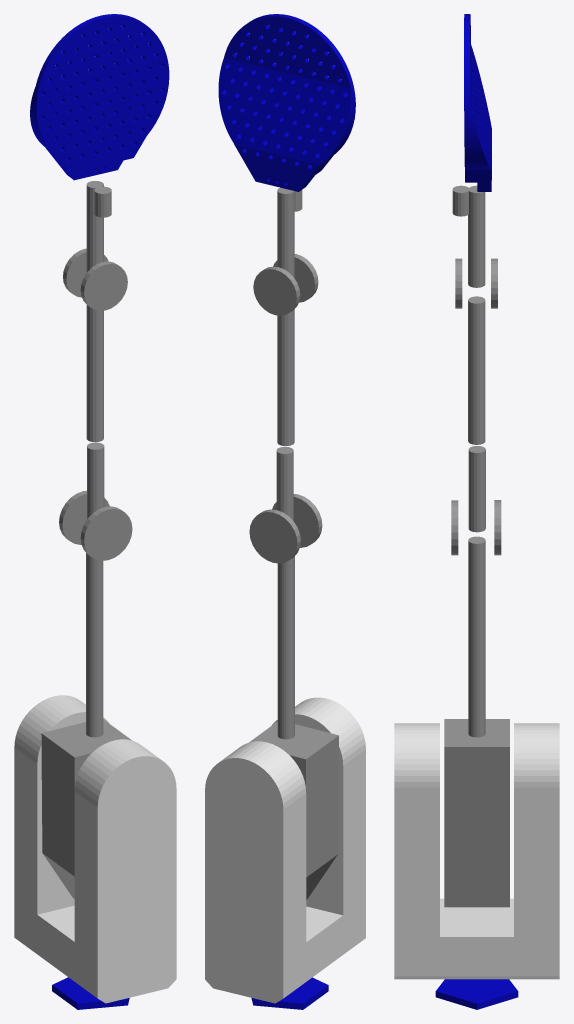
The picture shows the model from 3 angles, left to right: view 1: azimuth 30°, elevation 25°; view 2: azimuth 150°, elevation 25°; view 3: azimuth 270°, elevation 25°; orthographic projection.
Visible parts, largest first — view 1: x6_link1, x6_toolframe, x6_link2, x6_link3, x6_link5, x6_link4, x6_base_link, x6_link6; view 2: x6_link1, x6_toolframe, x6_link2, x6_link3, x6_link5, x6_link4, x6_base_link; view 3: x6_link1, x6_link2, x6_toolframe, x6_link4, x6_link5, x6_link3, x6_base_link, x6_link6.
Part boxes in pixels (<box>): x6_link1: <box>14,695,176,1003</box>; x6_toolframe: <box>30,14,169,180</box>; x6_link2: <box>41,553,131,898</box>; x6_link3: <box>59,442,132,560</box>; x6_link5: <box>63,181,127,310</box>; x6_link4: <box>86,305,103,442</box>; x6_base_link: <box>52,977,129,1009</box>; x6_link6: <box>94,186,111,217</box>; x6_link1: <box>205,697,365,1003</box>; x6_toolframe: <box>218,14,355,191</box>; x6_link2: <box>249,556,338,899</box>; x6_link3: <box>249,446,322,563</box>; x6_link5: <box>253,187,318,315</box>; x6_link4: <box>277,309,294,445</box>; x6_base_link: <box>251,977,328,1009</box>; x6_link1: <box>394,723,559,979</box>; x6_link2: <box>444,536,509,907</box>; x6_toolframe: <box>464,14,491,191</box>; x6_link4: <box>468,296,485,444</box>; x6_link5: <box>455,185,497,308</box>; x6_link3: <box>451,446,501,555</box>; x6_base_link: <box>435,979,518,1009</box>; x6_link6: <box>452,185,468,216</box>.
Size of the model in its own units: 0.1752 by 0.1906 by 1.24.
